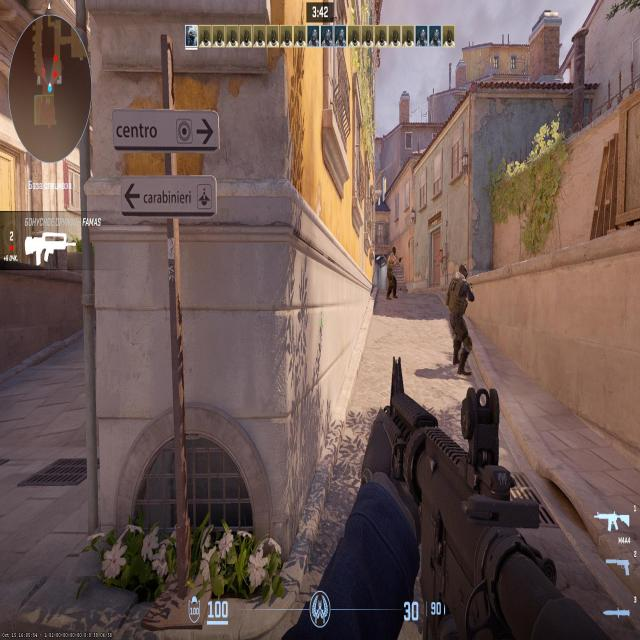CT: (454, 262, 469, 368)
CT_heat: (457, 267, 465, 288)
T: (390, 248, 396, 302)
T_heat: (393, 250, 397, 255)
